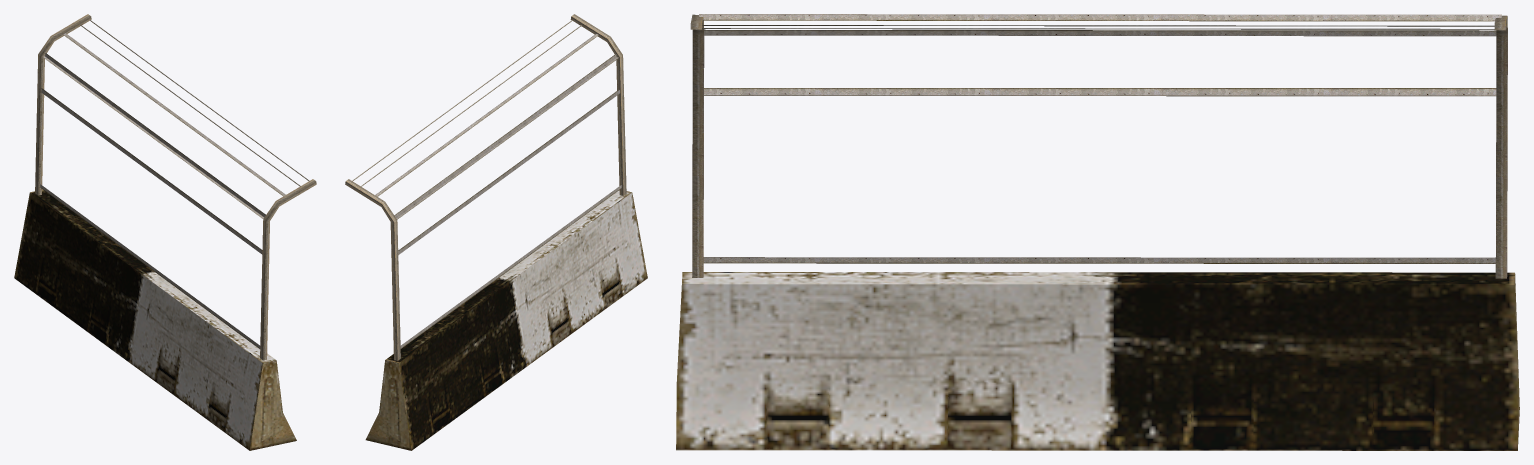
File: RailD.FBX
The picture shows the model from 3 angles, left to right: view 1: azimuth 30°, elevation 25°; view 2: azimuth 150°, elevation 25°; view 3: azimuth 270°, elevation 25°; orthographic projection. The views are drawn at different scales.
Parts seen in each view (by area): view 1: RailD; view 2: RailD; view 3: RailD.
Part boxes in pixels (x1,y1,x2,y2): RailD: (14, 14, 316, 450); RailD: (345, 14, 647, 450); RailD: (676, 14, 1519, 450).
Size of the model in its own units: 48.6 by 281 by 164.
